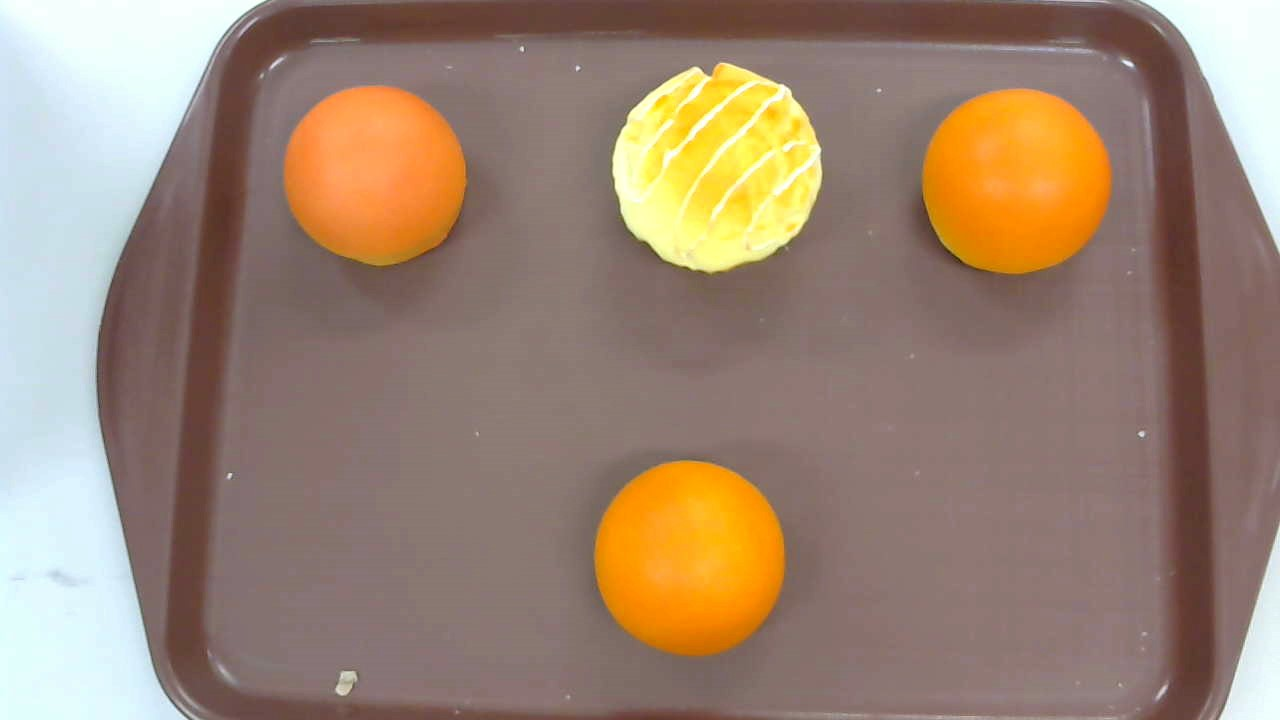bun: (594, 460, 785, 658), (921, 87, 1112, 276), (284, 83, 466, 266)
cupcake: (612, 61, 822, 274)
